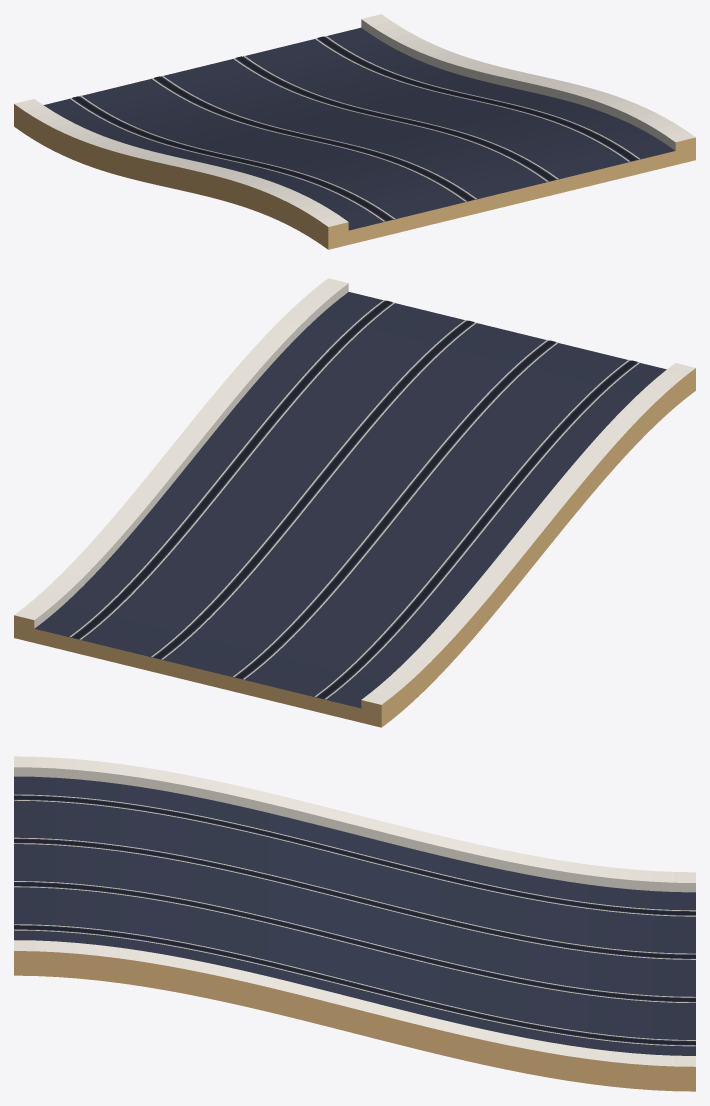
File: Track_4L_RampUp.fbx
3 views of the same model, one above another, from view 1: azimuth 30°, elevation 25°; view 2: azimuth 150°, elevation 25°; view 3: azimuth 270°, elevation 25° (orthographic). The views are drawn at different scales.
Visible parts, largest first — view 1: Track_4L_RampUp; view 2: Track_4L_RampUp; view 3: Track_4L_RampUp.
Boxes of the visible parts, bbox=[...] form: Track_4L_RampUp: bbox=[14, 14, 695, 249]; Track_4L_RampUp: bbox=[14, 278, 695, 727]; Track_4L_RampUp: bbox=[14, 756, 695, 1091].
Bounding box in the file's own units: 5.4 × 1.82 × 8.
